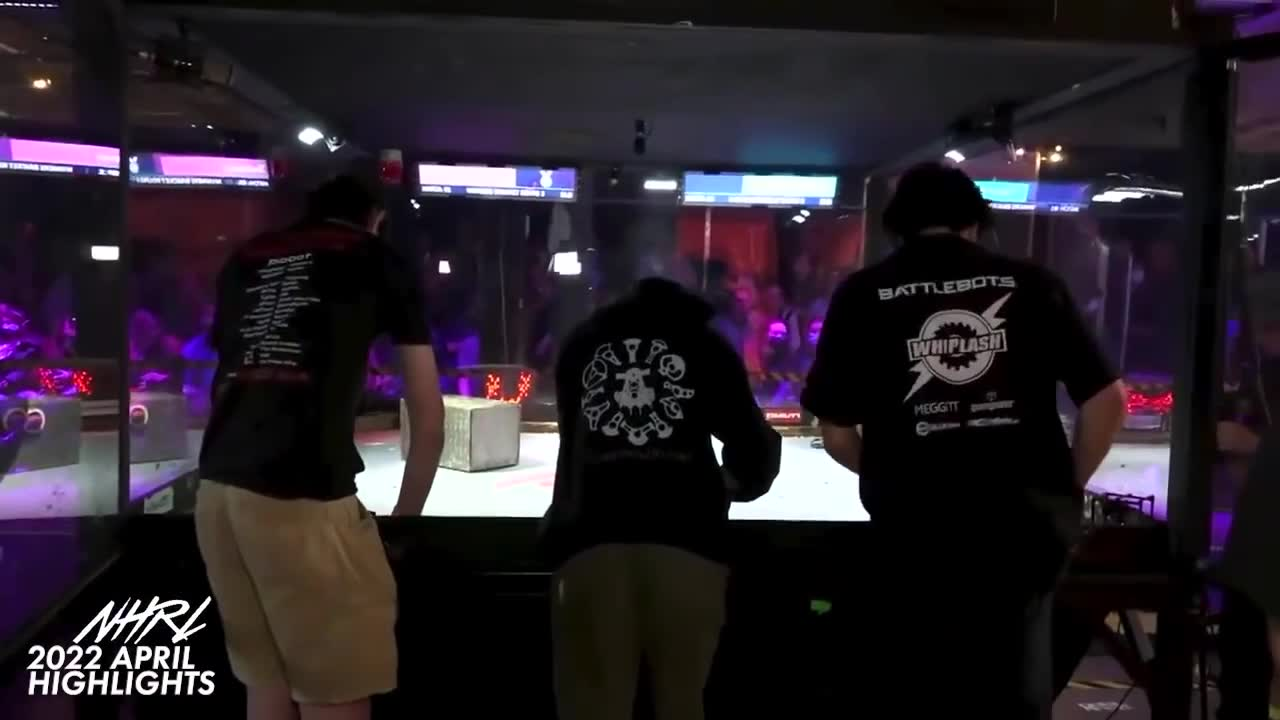housebot: (399, 392, 525, 473)
